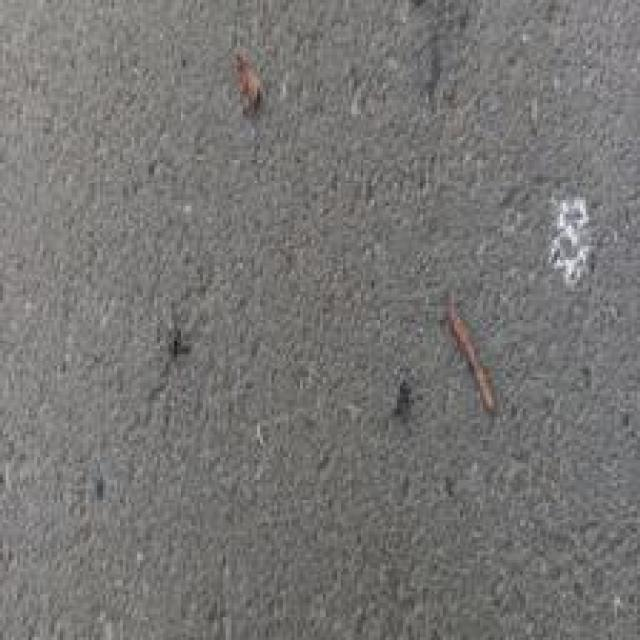Aedes albopictus: (440, 289, 500, 414)
